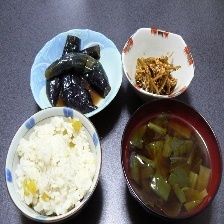rice: (7, 115, 98, 219)
